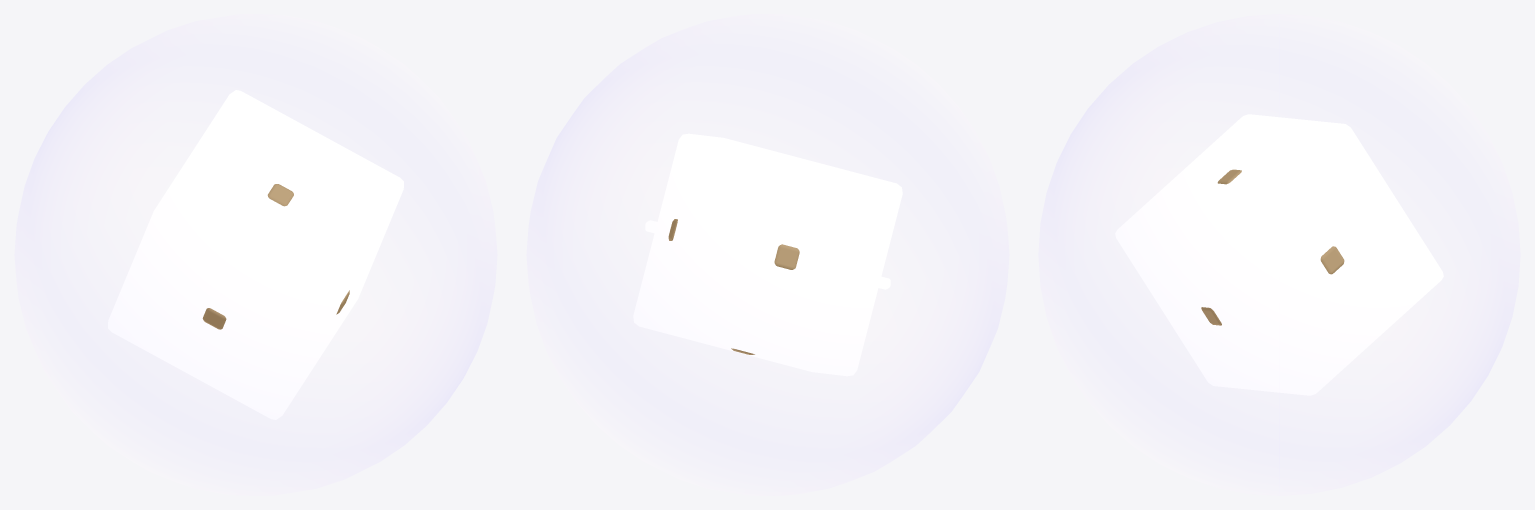
File: orb_core.glb
3 views of the same model, side by side, from view 1: azimuth 30°, elevation 25°; view 2: azimuth 150°, elevation 25°; view 3: azimuth 270°, elevation 25° (orthographic).
Visible parts, largest first — view 1: CORE_glow, CUBE_body; view 2: CORE_glow, CUBE_body; view 3: CORE_glow, CUBE_body.
Part boxes in pixels (x1=…): CORE_glow: x1=15, y1=14, x2=496, y2=495; CUBE_body: x1=108, y1=90, x2=403, y2=419; CORE_glow: x1=527, y1=14, x2=1008, y2=495; CUBE_body: x1=633, y1=133, x2=902, y2=376; CORE_glow: x1=1039, y1=14, x2=1519, y2=495; CUBE_body: x1=1115, y1=114, x2=1443, y2=395.
Size of the model in its own units: 0.57 by 0.57 by 0.57.
